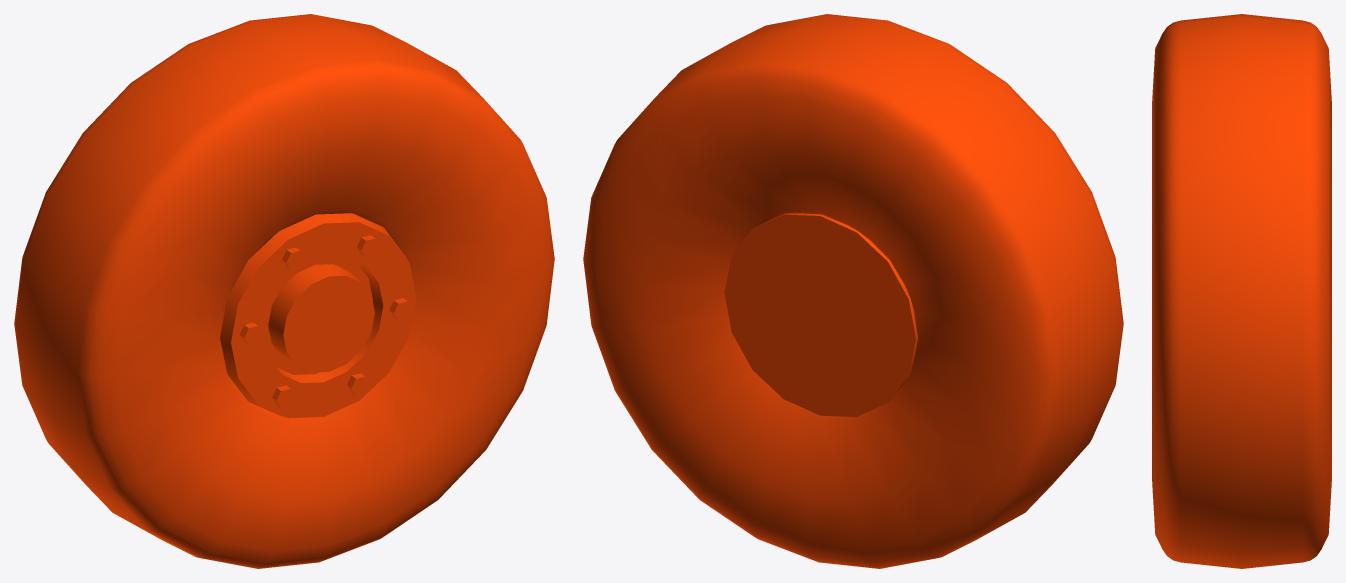
File: WHEEL_RUS01.FBX
3 views of the same model, side by side, from view 1: azimuth 30°, elevation 25°; view 2: azimuth 150°, elevation 25°; view 3: azimuth 270°, elevation 25° (orthographic).
Parts seen in each view (by area): view 1: Object024; view 2: Object024; view 3: Object024.
Part boxes in pixels (x1,y1,x2,y2): Object024: (14, 14, 554, 568); Object024: (583, 14, 1123, 568); Object024: (1152, 14, 1331, 568).
Size of the model in its own units: 1.29 by 1.29 by 0.4155.
